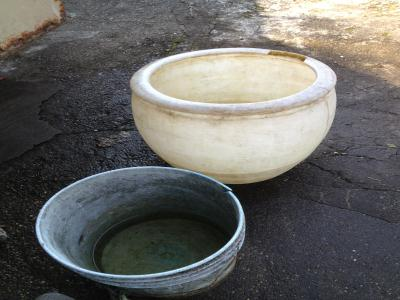bowl: (127, 44, 345, 189)
bucket: (29, 163, 253, 297)
